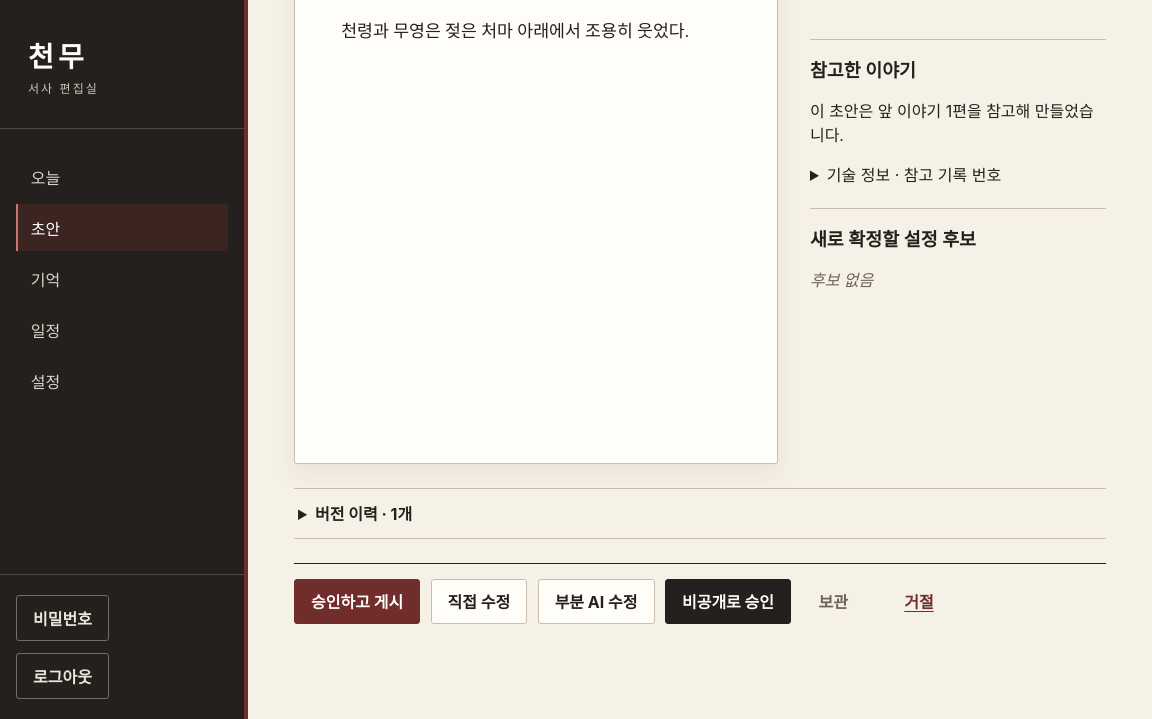
Test: AdminApp local preview composition › returns a rejected review to the rejected list with a clear feedback confirmation
(page scrolled)
Step 1. Click the button "거절" → (919, 601), box [887,578,951,624]
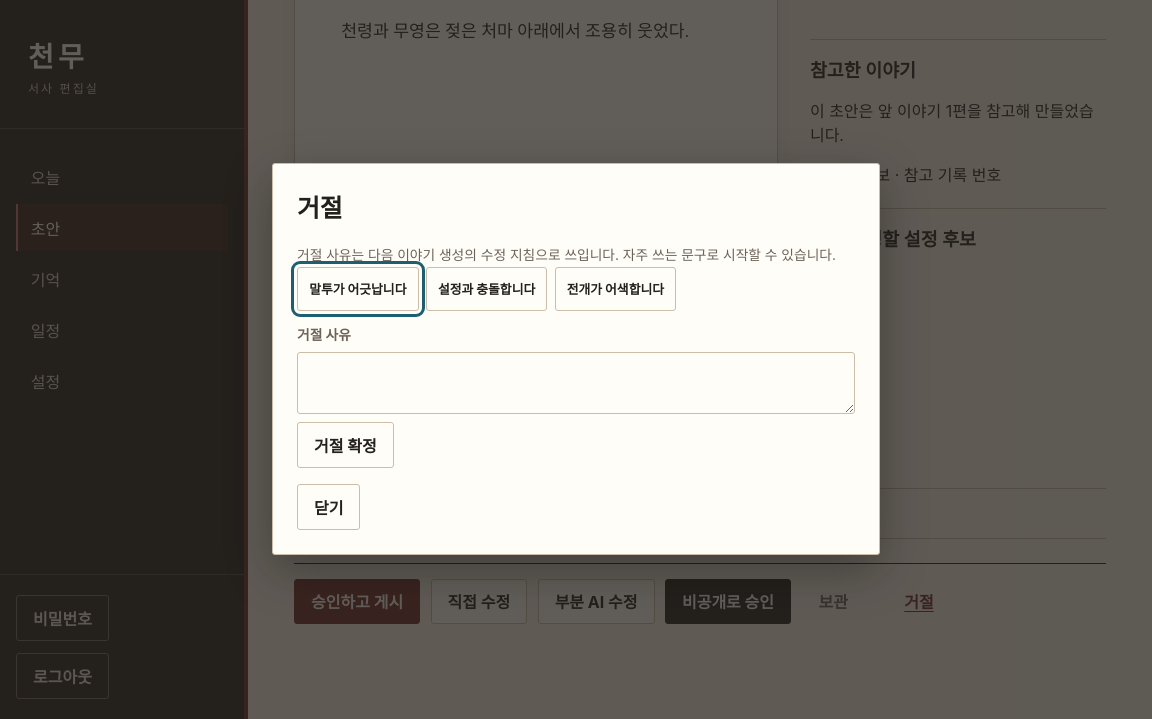
Step 2. Type "가벼운 부상에는 천령의 피를 쓰지 않는다." into the text box labelled "거절 사유" → (576, 383), box [297,352,855,414]
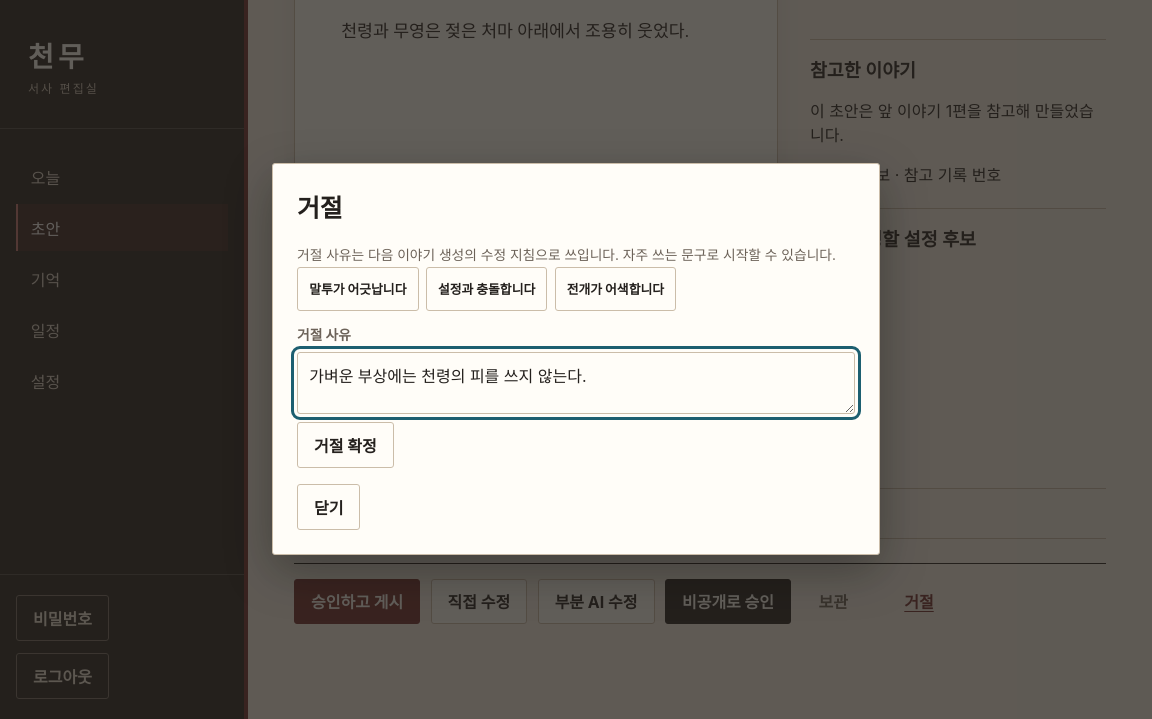
Step 3. Click the button "거절 확정" → (345, 445), box [297,422,394,468]
(page scrolled)
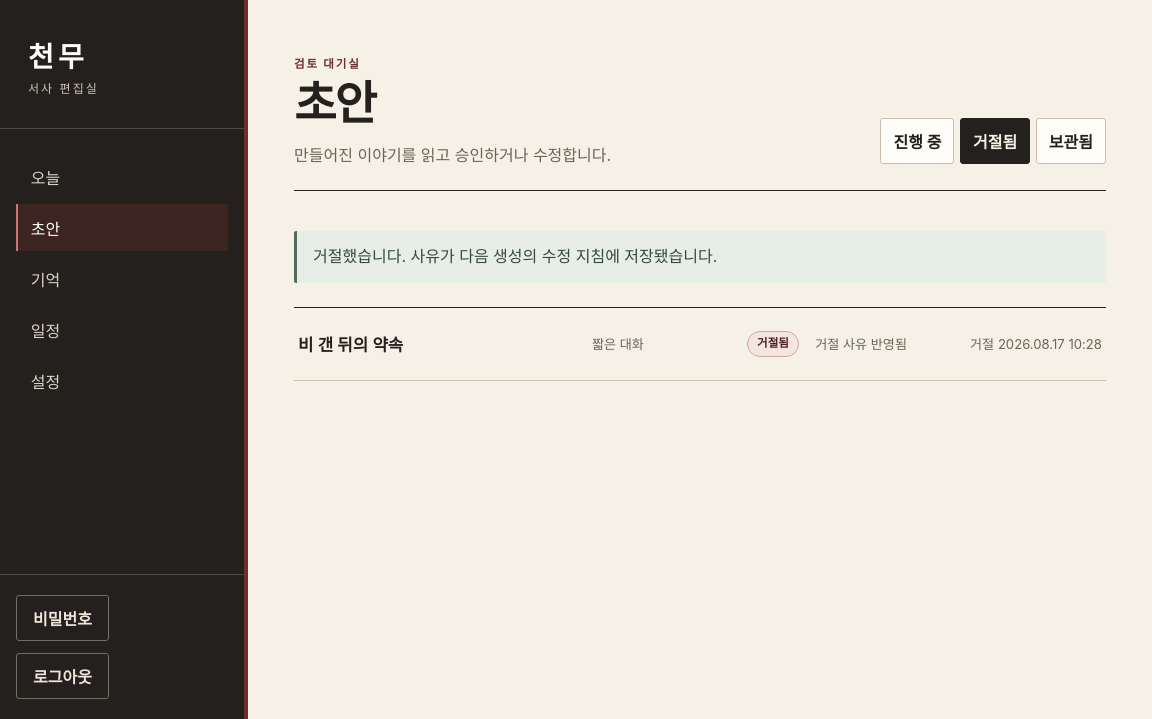
expect the heading "초안" is shown: met, box [294,79,375,130]
expect the text "거절했습니다. 사유가 다음 생성의 수정 지침에 저장됐습니다." is shown: met, box [313,244,717,269]
expect the link "비 갠 뒤의 약속 짧은 대화 거절됨 거절 사유 반영됨 거절 2026.08.17 10:28" is shown: met, box [298,330,1102,356]
